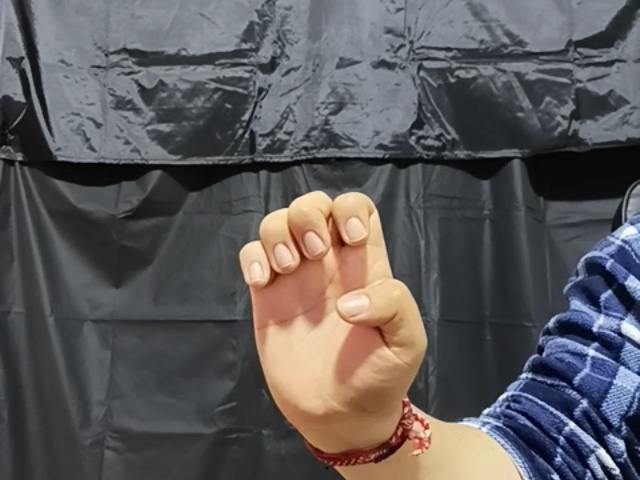E: (229, 188, 432, 433)
